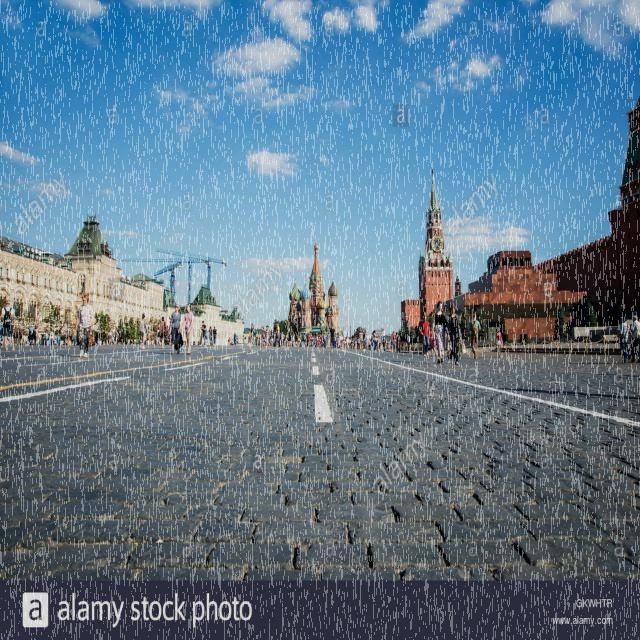pessoa: (334, 327, 402, 354), (0, 324, 74, 347), (444, 303, 466, 366), (74, 293, 94, 358), (430, 300, 448, 366), (267, 331, 331, 349), (96, 328, 160, 346), (168, 303, 185, 355), (179, 302, 194, 356), (617, 316, 633, 364), (467, 312, 482, 361), (628, 314, 640, 364), (418, 313, 430, 359), (156, 316, 168, 350), (443, 318, 453, 358), (227, 331, 250, 348), (139, 311, 149, 350), (494, 326, 504, 359), (428, 325, 438, 357), (198, 320, 208, 348), (272, 322, 282, 349), (328, 322, 336, 350), (248, 322, 256, 348), (264, 324, 271, 349), (260, 325, 266, 348), (208, 326, 214, 346), (286, 328, 292, 348), (212, 324, 217, 346), (254, 333, 262, 346), (406, 332, 411, 352), (204, 324, 208, 346)
